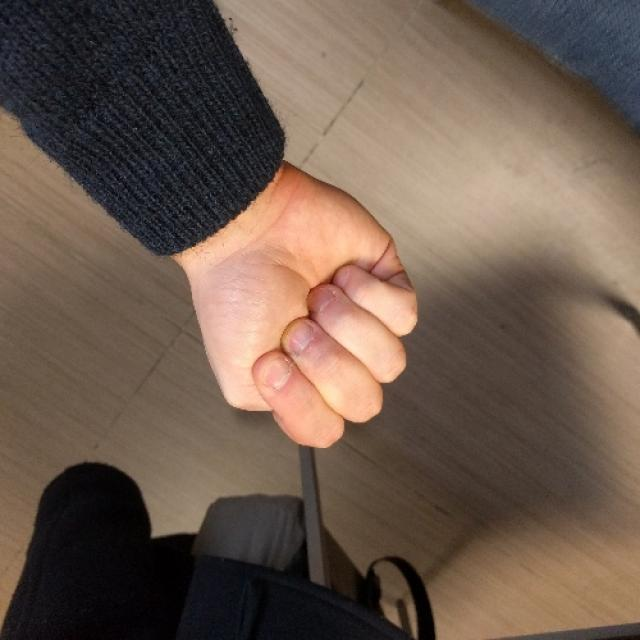rock: (184, 177, 424, 450)
